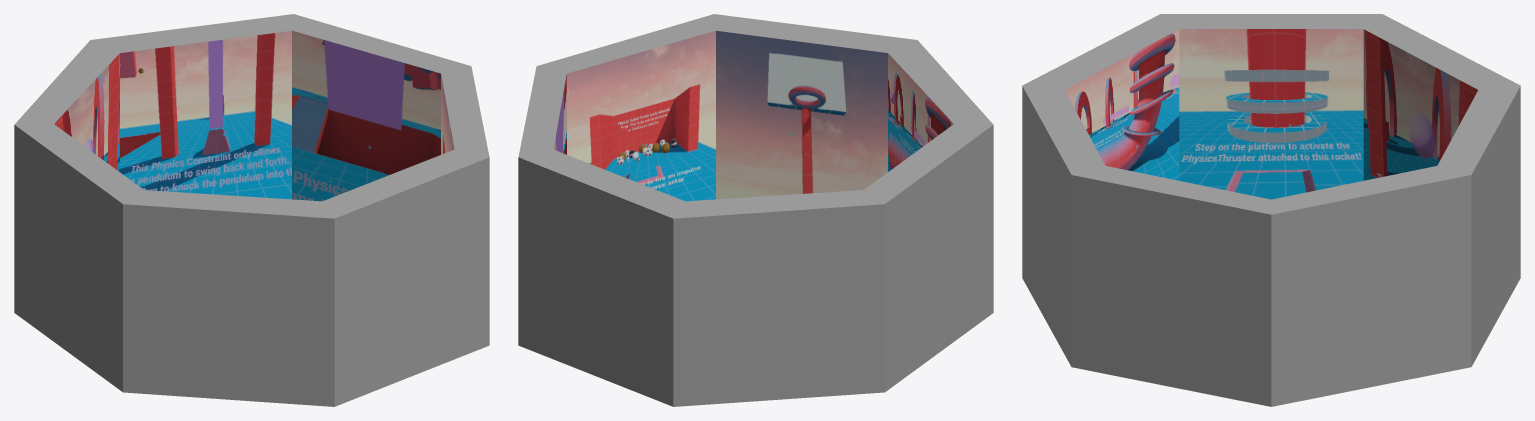
File: CircleMenu.fbx
3 views of the same model, side by side, from view 1: azimuth 30°, elevation 25°; view 2: azimuth 150°, elevation 25°; view 3: azimuth 270°, elevation 25° (orthographic). The views are drawn at different scales.
Visible parts, largest first — view 1: pasted__pCylinder1; view 2: pasted__pCylinder1; view 3: pasted__pCylinder1.
Part boxes in pixels (x1,y1,x2,y2): pasted__pCylinder1: (14, 14, 489, 406); pasted__pCylinder1: (518, 14, 993, 406); pasted__pCylinder1: (1022, 14, 1520, 406).
Bounding box in the file's own units: 2.24 × 1 × 2.35.
